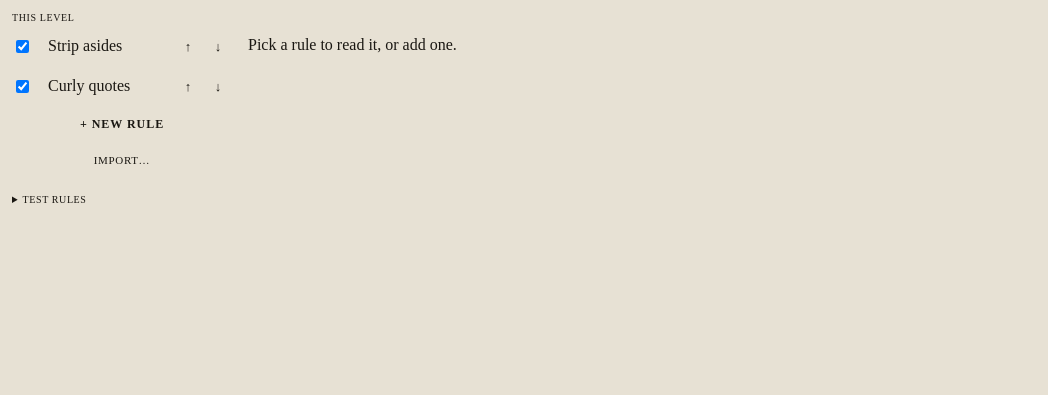
clicking a rule shows the read-only view with sidebar and no textarea
Click the button "Strip asides".
click(103, 46)  # box [38, 29, 168, 63]
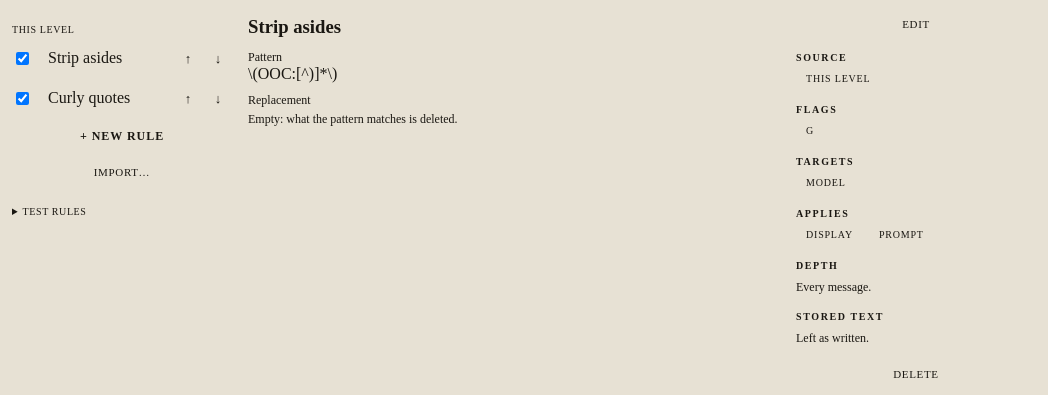
Now the text "\\(OOC:[^)]*\\)" is shown, box [248, 65, 337, 82]
Now the button "Edit" is shown, box [796, 12, 1036, 36]
Now the heading "Flags" is shown, box [796, 104, 837, 115]
